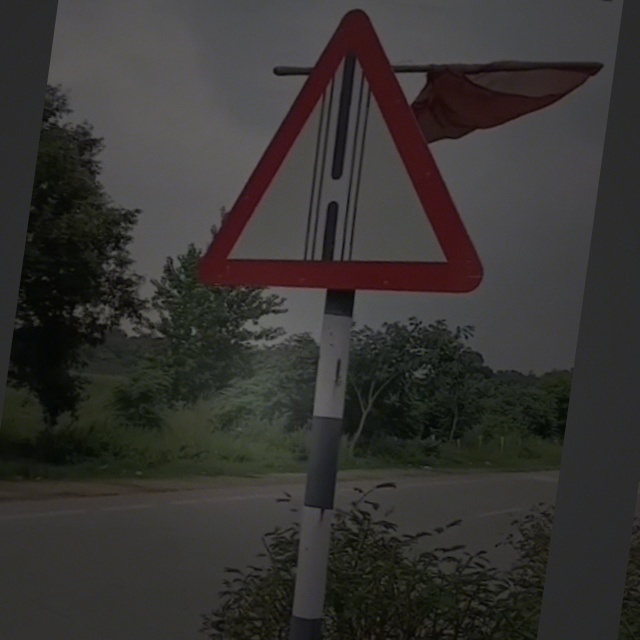Gap_in_Median: (201, 3, 513, 310)
